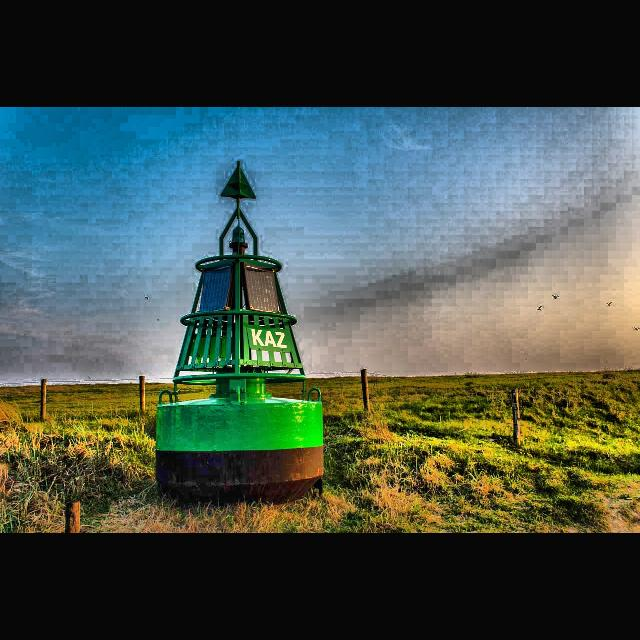buoy: (151, 161, 327, 495)
